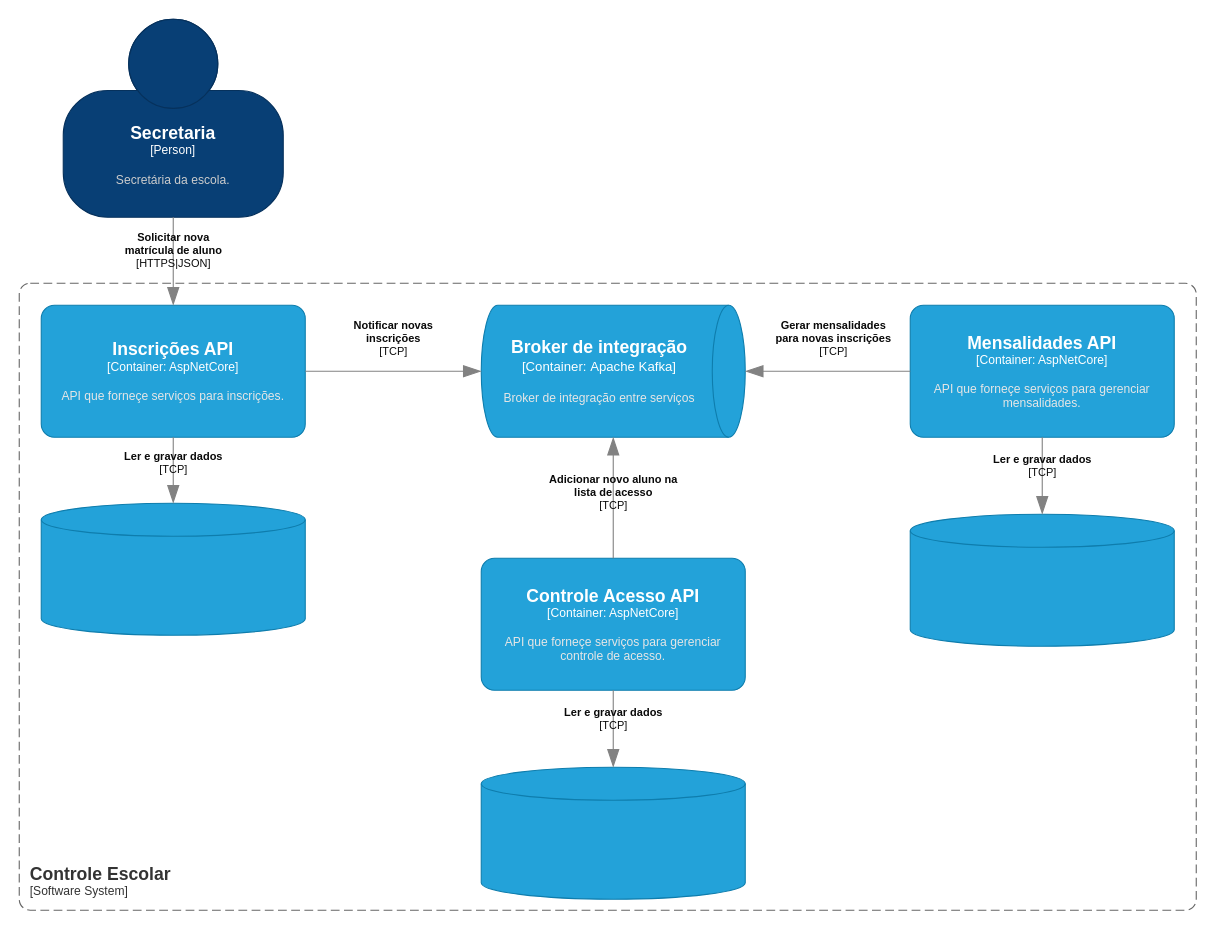
Some shapes in this 1216 by 930 pixel diagram are drawn without their labels. The shapes that lost their labels are listed below. From the top down, each one's centre as x and y in pixels, then its label:
the point at 172,568: Inscrições DB [Container: SqlServer] Dados de inscrições
the point at 1041,579: Mensalidades DB [Container: SqlServer] Dados de mensalidades
the point at 612,832: Controle de Acesso DB [Container: SqlServer] Dados de acesso
